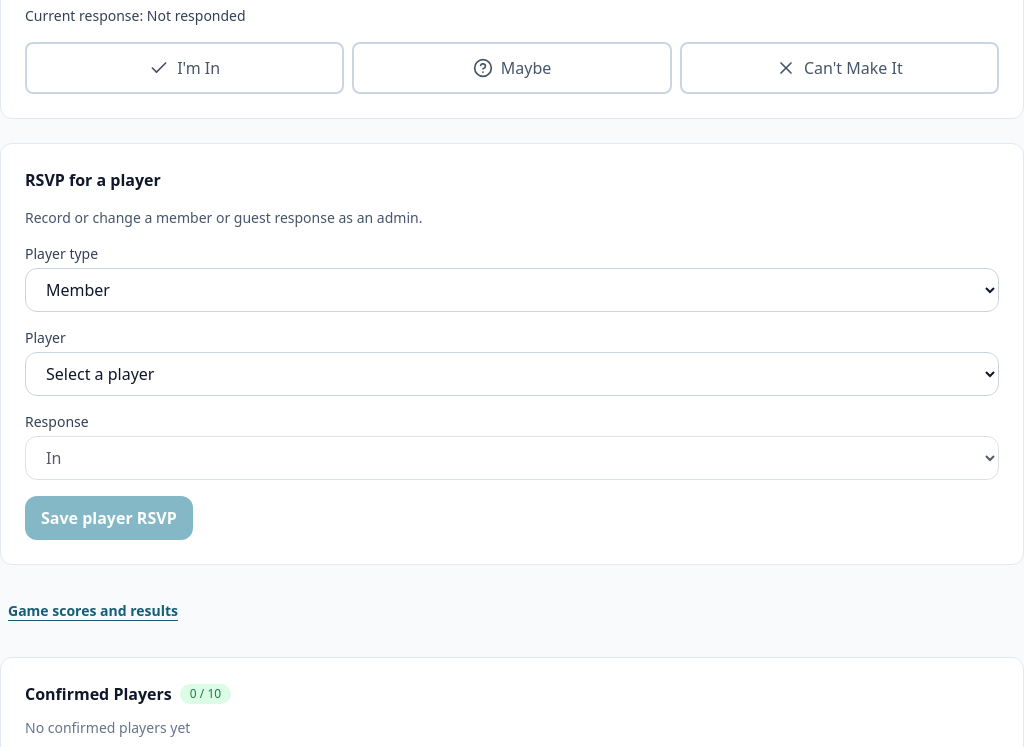
Test: admin player RSVPs › saves a player RSVP with deadline passed = false and refreshes the roster
The width and height of the screenshot is (1024, 747).
(page scrolled)
Select "Ace" in the dropdown labelled "Player" at (512, 374), box [25,352,999,396]
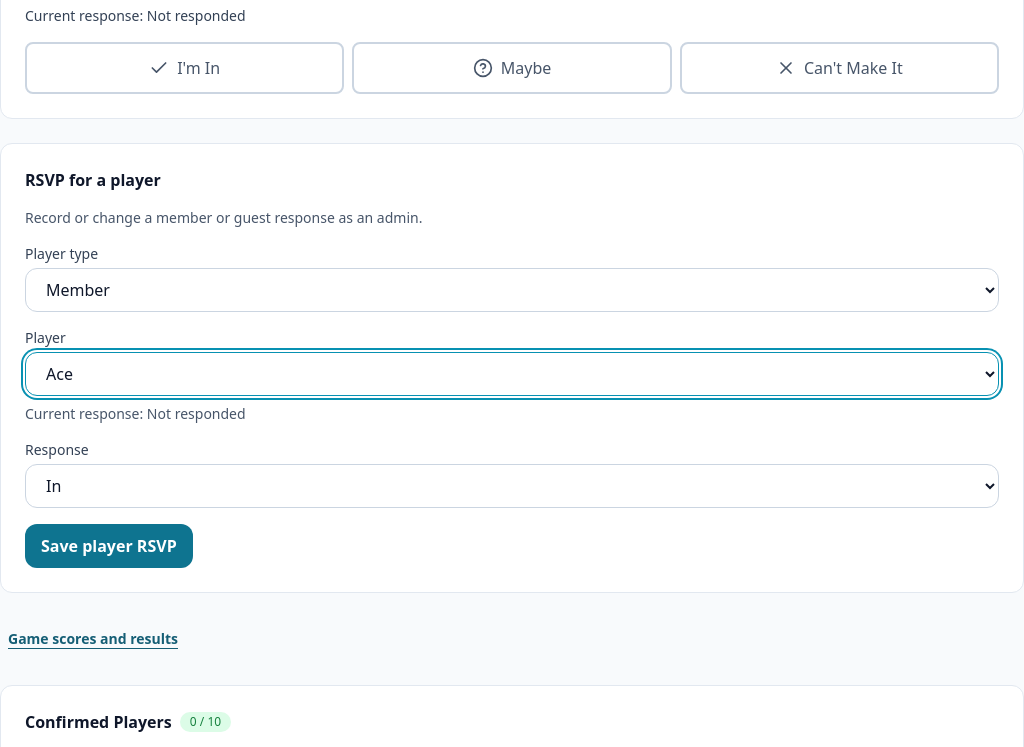
Click the button "Save player RSVP" at (109, 546), box [25,524,193,568]
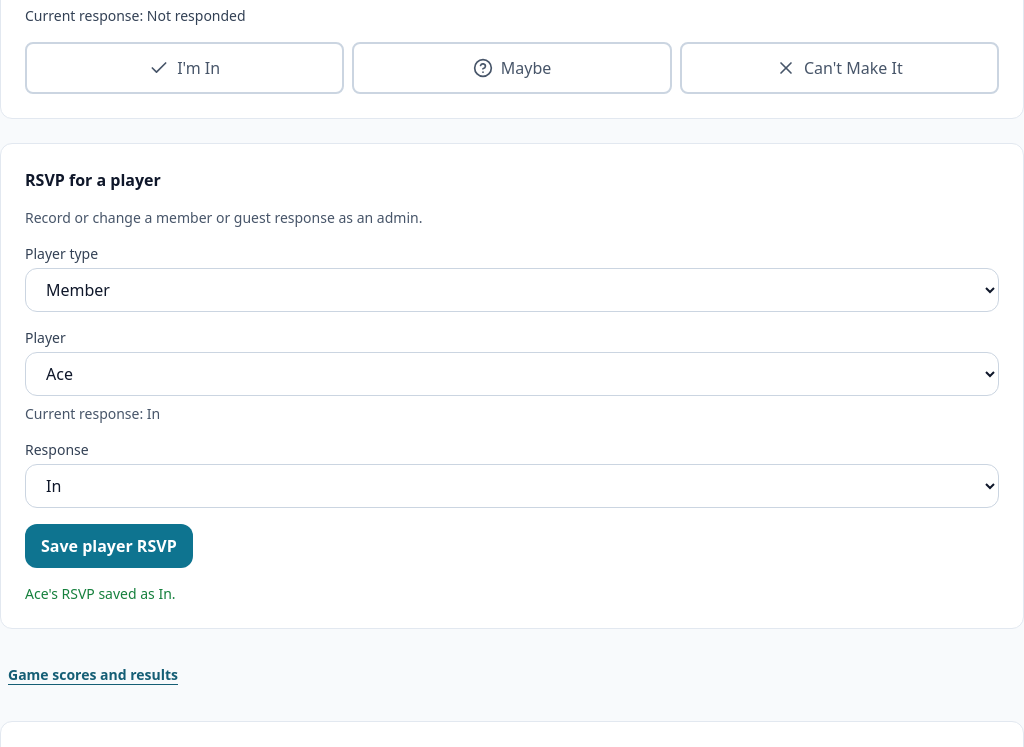
Check: the text "Ace's RSVP saved as In." is shown, box [25,584,176,603]
Check: the text "Current response: In" is shown, box [25,404,160,423]
